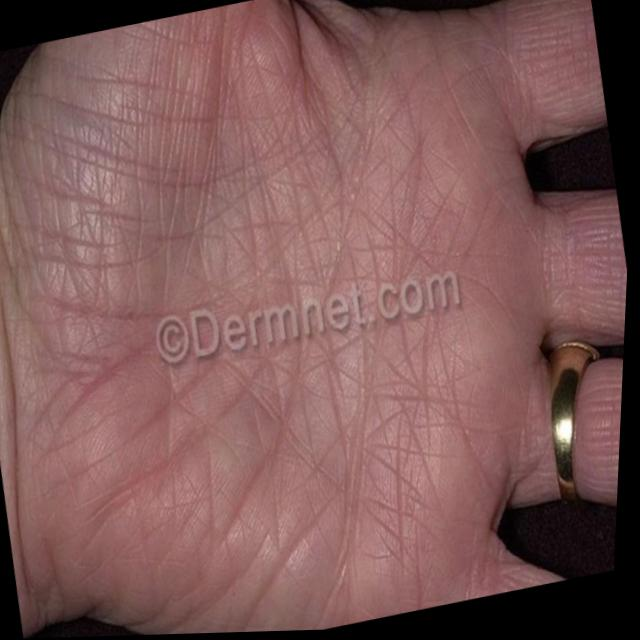liquenificacion 1: (39, 28, 484, 595), (514, 0, 606, 151), (548, 186, 626, 331), (574, 363, 623, 501)
liquenificacion 2: (0, 28, 484, 595), (514, 0, 606, 151), (548, 186, 626, 331), (574, 363, 623, 501)
